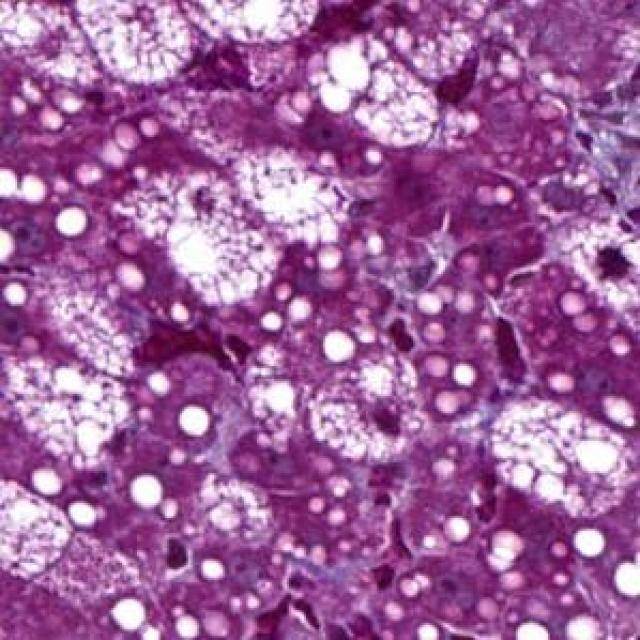ballooning: (103, 169, 295, 315), (479, 392, 632, 520), (72, 11, 208, 92)
